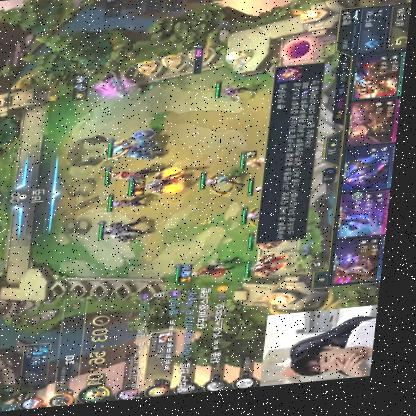streamer: (297, 320, 385, 391)
